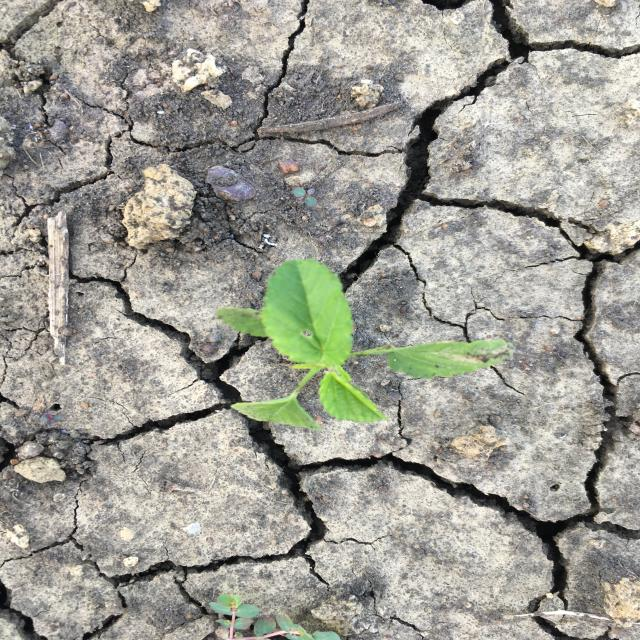PricklySida: (216, 256, 510, 431)
SpottedSpurge: (204, 594, 344, 640)
